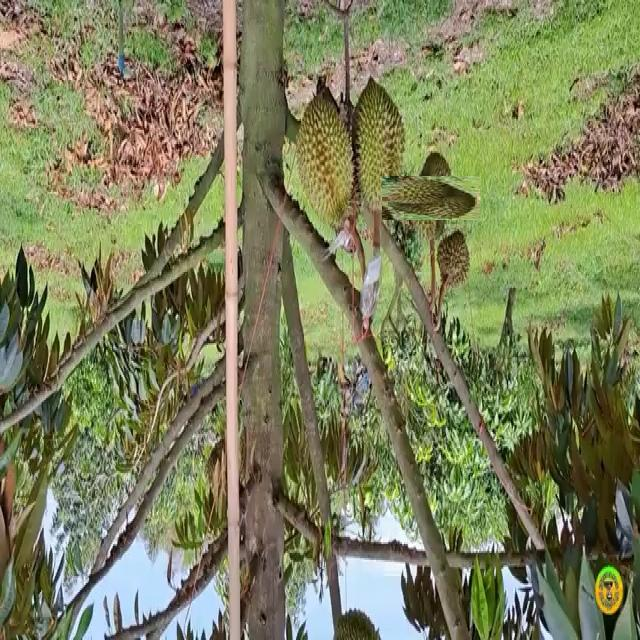durian: (293, 83, 359, 232), (349, 74, 409, 218), (395, 162, 467, 233), (434, 226, 472, 290)
